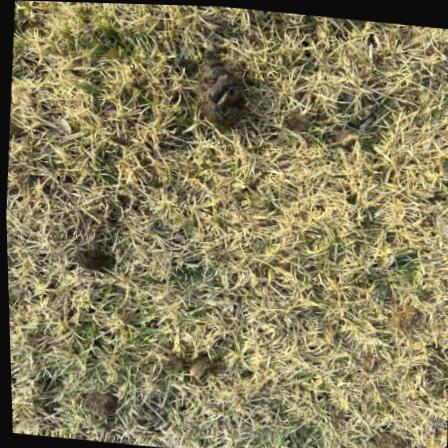dog-poop: (190, 48, 258, 127)
